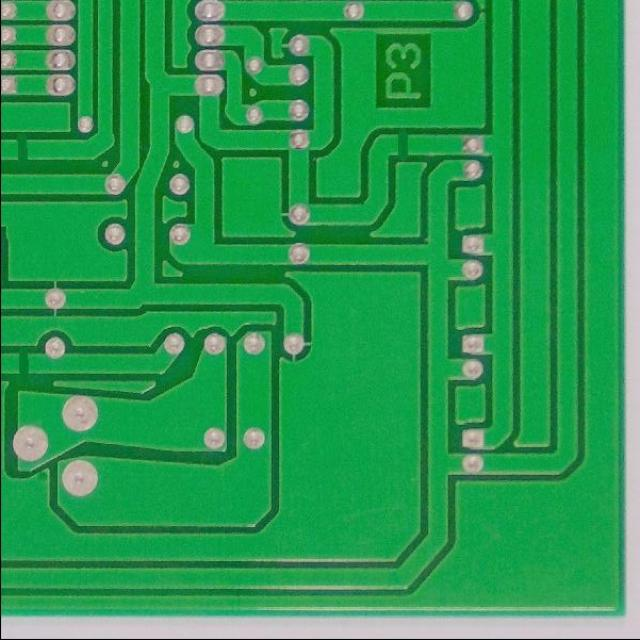open_circuit: (10, 349, 36, 380), (388, 130, 413, 161), (10, 136, 32, 163)
